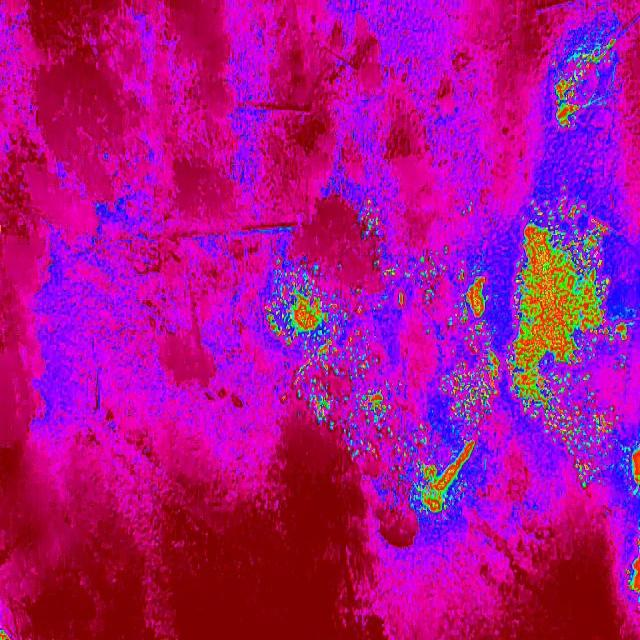fire: (367, 194, 640, 522), (260, 258, 366, 348), (547, 26, 623, 136), (294, 348, 367, 432), (627, 548, 640, 611), (342, 432, 368, 460), (0, 626, 11, 640)
